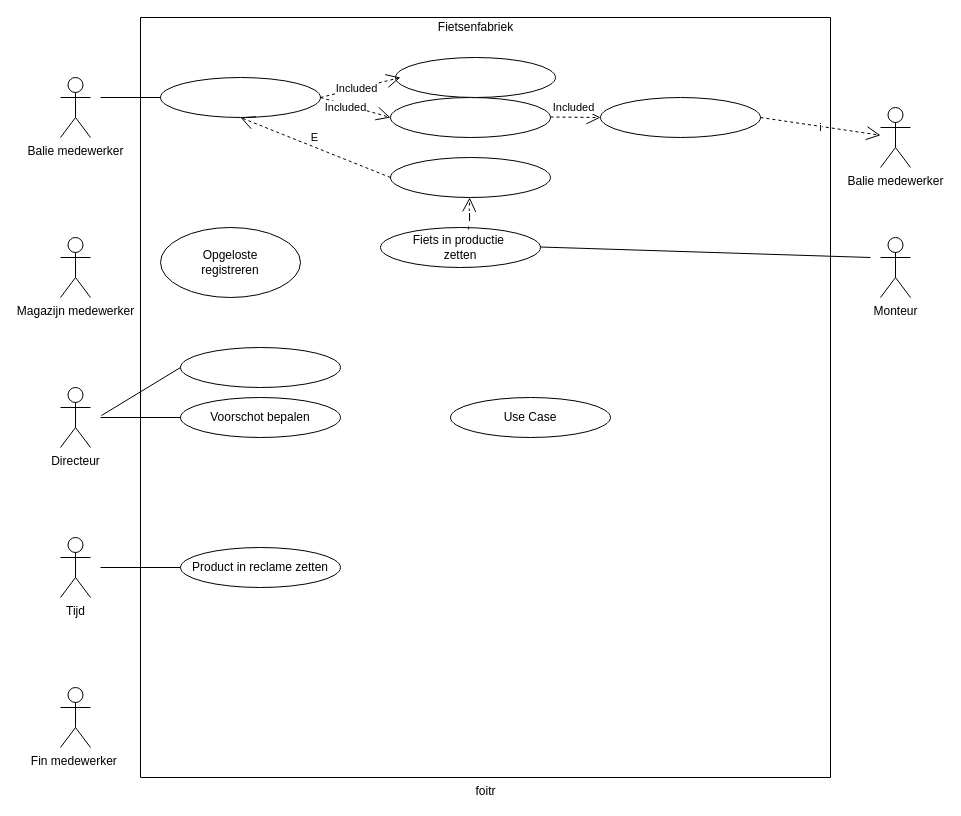
Image size: 961x816. Some labels were removed from this diagram. The shapes that lost their labels are listed below. From the top down, each one's box as (x1, y1, x2, y2) in pixels, then its label:
(160, 76, 320, 118): Bestelling beheren
(394, 56, 556, 98): Beschikbare producten opvragen
(390, 96, 550, 138): Bestelling bevestigen
(600, 96, 760, 138): Lever tijd tonen
(390, 156, 550, 198): Voorschoot registreren
(180, 346, 340, 388): Onderdelen beheren
